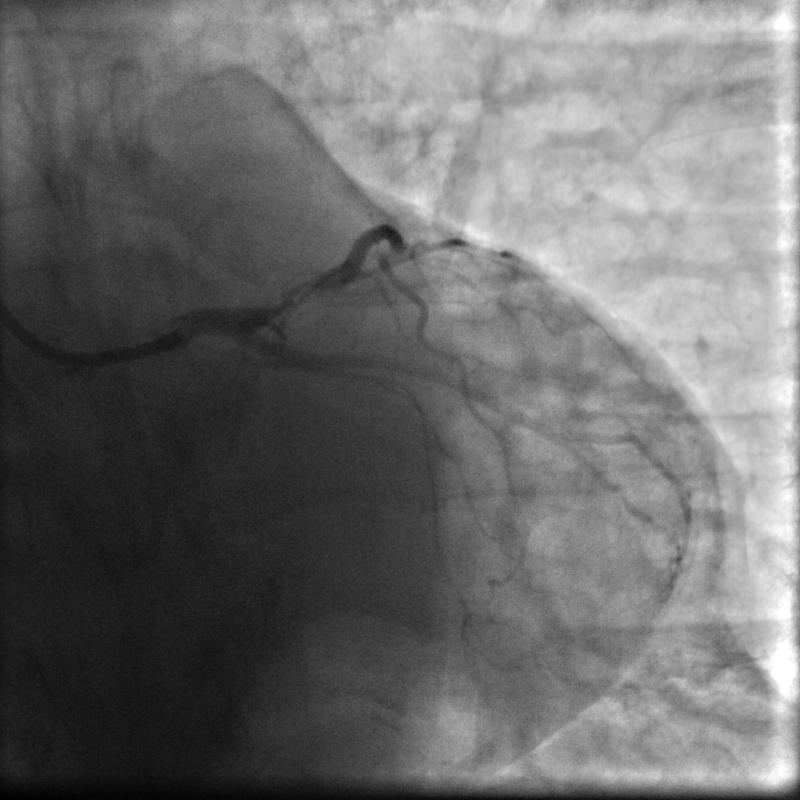Stenosis: (272, 280, 332, 303)
